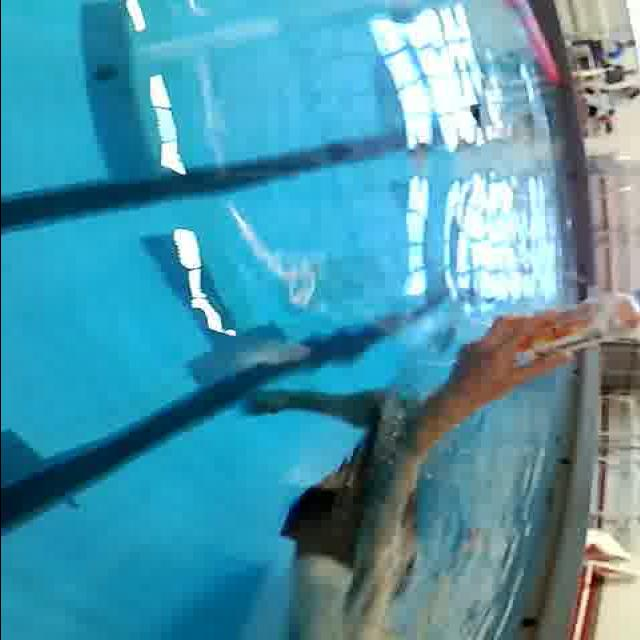Bottle: (515, 283, 640, 363)
